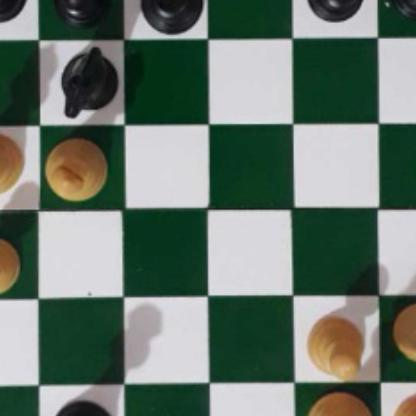black-bishop: (135, 0, 204, 37)
black-knight: (55, 42, 117, 121)
black-pawn: (53, 0, 110, 26), (304, 0, 363, 21), (0, 0, 24, 22), (392, 0, 416, 15)
black-queen: (46, 397, 117, 416)
white-bishop: (44, 137, 108, 201), (0, 131, 24, 196)
white-king: (304, 388, 383, 416)
white-knight: (395, 301, 416, 372)
white-pawn: (304, 310, 369, 378), (0, 235, 21, 295), (392, 395, 416, 416)
